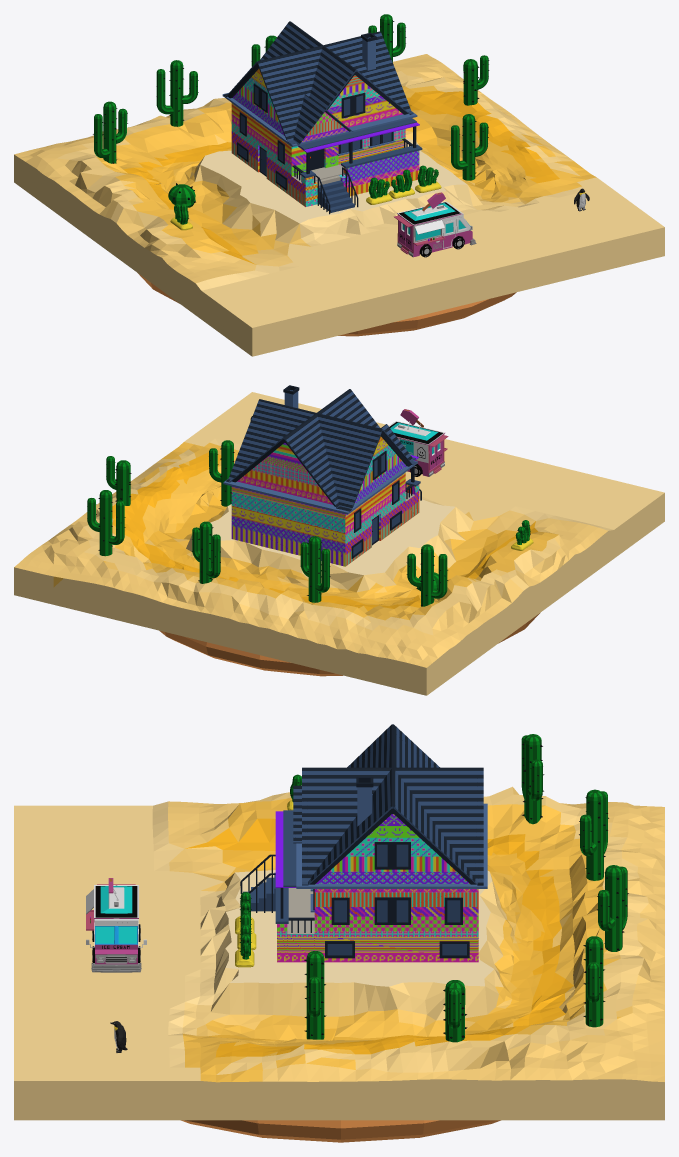
3 views of the same model, one above another, from view 1: azimuth 30°, elevation 25°; view 2: azimuth 150°, elevation 25°; view 3: azimuth 270°, elevation 25° (orthographic). The views are drawn at different scales.
Parts seen in each view (by area): view 1: Cube.001, Cube.676, VEHICLES_ICE_CREAM_TRUCK, UNDERGROUND_PIZZA, Cylinder.044, Cylinder.037, Cylinder.045, Cylinder.038, Cylinder.042, Cylinder.039, Cylinder.041, Sphere.023; view 2: Cube.001, Cube.676, VEHICLES_ICE_CREAM_TRUCK, UNDERGROUND_PIZZA, Cylinder.042, Cylinder.045, Cylinder.044, Cylinder.043, Cylinder.037, Cylinder.038; view 3: Cube.001, Cube.676, UNDERGROUND_PIZZA, VEHICLES_ICE_CREAM_TRUCK, Cylinder.043, Cylinder.044, Cylinder.045, Cylinder.042, Cylinder.037, Cylinder.038, Cylinder.041.
Boxes of the visible parts, x1,y1,x2,y2 form: Cube.001: (14, 54, 664, 356); Cube.676: (222, 21, 422, 214); VEHICLES_ICE_CREAM_TRUCK: (394, 192, 476, 257); UNDERGROUND_PIZZA: (138, 273, 516, 336); Cylinder.044: (156, 60, 198, 126); Cylinder.037: (450, 114, 488, 180); Cylinder.045: (93, 101, 127, 163); Cylinder.038: (463, 55, 489, 105); Cylinder.042: (368, 14, 406, 62); Cylinder.039: (366, 177, 392, 204); Cylinder.041: (415, 165, 441, 192); Sphere.023: (168, 183, 195, 207); Cube.001: (14, 392, 664, 695); Cube.676: (223, 385, 421, 566); VEHICLES_ICE_CREAM_TRUCK: (389, 409, 448, 476); UNDERGROUND_PIZZA: (159, 613, 539, 676); Cylinder.042: (87, 490, 125, 556); Cylinder.045: (406, 544, 448, 606); Cylinder.044: (300, 536, 330, 602); Cylinder.043: (192, 521, 220, 583); Cylinder.037: (209, 440, 238, 506); Cylinder.038: (106, 456, 131, 505); Cube.001: (14, 786, 664, 1120); Cube.676: (240, 724, 487, 962); UNDERGROUND_PIZZA: (181, 1120, 500, 1142); VEHICLES_ICE_CREAM_TRUCK: (86, 878, 146, 972); Cylinder.043: (597, 865, 628, 951); Cylinder.044: (579, 789, 608, 880); Cylinder.045: (521, 734, 544, 824); Cylinder.042: (583, 936, 605, 1027); Cylinder.037: (304, 951, 326, 1039); Cylinder.038: (443, 980, 467, 1042); Cylinder.041: (235, 924, 254, 967).
Bounding box in the file's own units: 4002 × 1839 × 4001.
42 materials, 6 textured.
